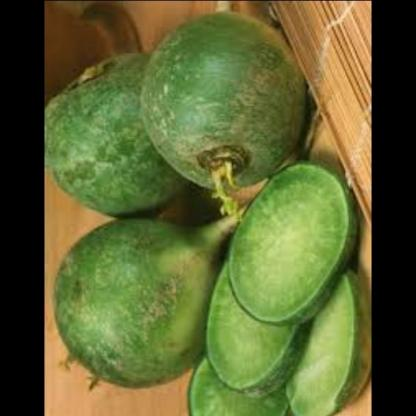redka: (136, 8, 306, 192), (51, 216, 228, 385), (43, 51, 192, 216), (219, 157, 356, 322), (202, 264, 303, 394), (288, 270, 370, 416), (185, 348, 286, 416)
